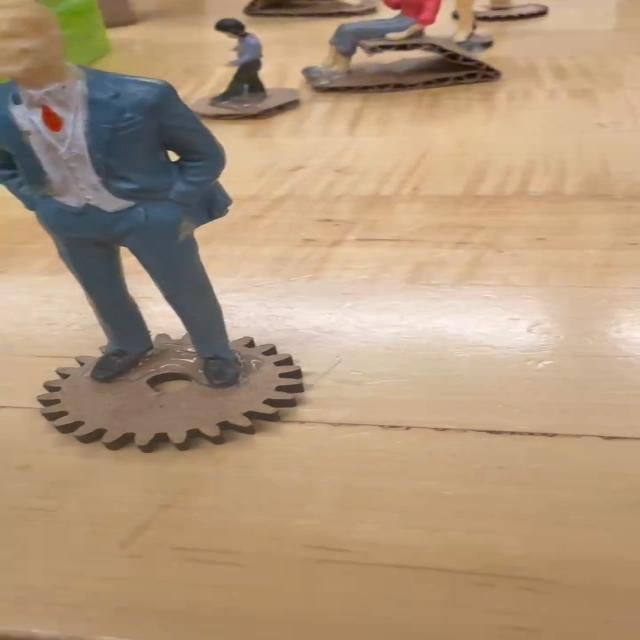Authorized: (0, 4, 262, 401)
